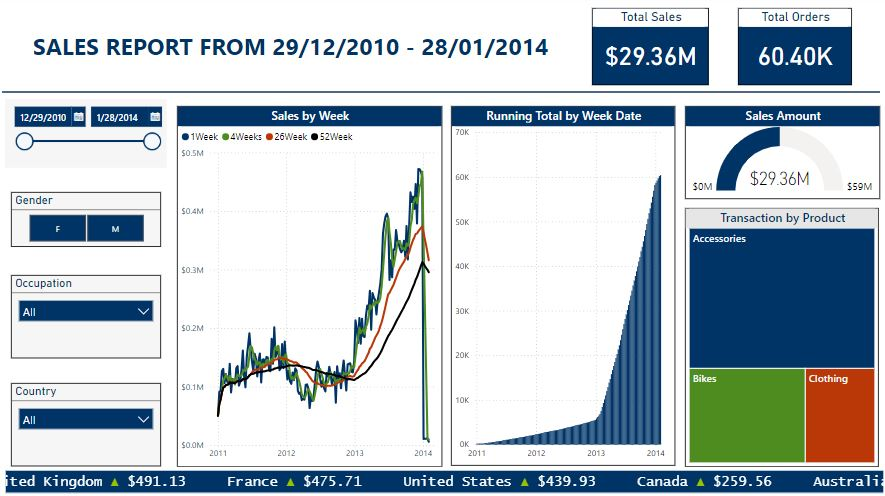

The page's visual inventory and layout, read from the dashboard file:
{"tool":"powerbi","page":{"name":"Page 1","canvas":[1280,720],"ordinal":0},"visuals":[{"type":"card","title":"Total Sales","fields":{"Values":["Sum(FactInternetSales.SalesAmount)"]},"box":[855.4,17.3,168.5,110.9],"z":0},{"type":"card","fields":{"Values":["MeasureTable.DynamicTitle"]},"box":[0,17.3,842.4,110.9],"z":1000},{"type":"slicer","title":"Gender","fields":{"Values":["DimCustomer.Gender"]},"box":[18.7,282.2,216,79.2],"z":2000},{"type":"lineChart","title":"Sales by Week","fields":{"Y":["Sum(FactInternetSales.SalesAmount)","MeasureTable.4WeekAverage","MeasureTable.26WeekAverage","MeasureTable.52WeekAverage"],"Category":["FactInternetSales.WeekDate"]},"box":[257.3,158.4,381.6,519.8],"z":3000},{"type":"clusteredColumnChart","fields":{"Y":["MeasureTable.RunningTotal"],"Category":["FactInternetSales.WeekDate"]},"box":[652.8,158.4,322.6,518.4],"z":4000},{"type":"gauge","title":"Sales Amount","fields":{"Y":["Sum(FactInternetSales.SalesAmount)"]},"box":[989.3,158.4,280.8,133.9],"z":5000},{"type":"slicer","title":"Occupation","fields":{"Values":["DimCustomer.EnglishOccupation"]},"box":[18.7,401.8,216,119.5],"z":6000},{"type":"slicer","title":"Country","fields":{"Values":["DimGeography.CountryRegionCode"]},"box":[18.7,557.3,216,119.5],"z":7000},{"type":"slicer","title":"Country","fields":{"Values":["FactInternetSales.OrderDate"]},"box":[10.1,148.3,233.3,99.4],"z":8000},{"type":"card","title":"Total Orders","fields":{"Values":["CountNonNull(FactInternetSales.SalesAmount)"]},"box":[1065.6,17.3,164.2,110.9],"z":9000},{"type":"shape","box":[5.8,125.3,1264.3,25.9],"z":10000},{"type":"treemap","title":"Transaction by Product","fields":{"Group":["DimProductCategory.EnglishProductCategoryName"],"Values":["CountNonNull(FactInternetSales.OrderDate)"]},"box":[989.3,305.3,279.4,373],"z":11000},{"type":"ScrollingTextVisual1448795304508","fields":{"Category":["DimGeography.EnglishCountryRegionName"],"Measure Deviation":["MeasureTable.AverageAmount"]},"box":[5.8,678.2,1274.4,41.8],"z":12000}]}

Visuals, with their boxes in screenshot pixels (x1, y1, x2, y2), scaled from the page's 1280x720 canvas onto the 885x496 screenshot:
"Total Sales" card: crop(591, 12, 708, 88)
card - MeasureTable.DynamicTitle: crop(0, 12, 582, 88)
"Gender" slicer: crop(13, 194, 162, 249)
"Sales by Week" lineChart: crop(178, 109, 442, 467)
clusteredColumnChart - MeasureTable.RunningTotal x FactInternetSales.WeekDate: crop(451, 109, 674, 466)
"Sales Amount" gauge: crop(684, 109, 878, 201)
"Occupation" slicer: crop(13, 277, 162, 359)
"Country" slicer: crop(13, 384, 162, 466)
"Country" slicer: crop(7, 102, 168, 171)
"Total Orders" card: crop(737, 12, 850, 88)
shape: crop(4, 86, 878, 104)
"Transaction by Product" treemap: crop(684, 210, 877, 467)
ScrollingTextVisual1448795304508 - DimGeography.EnglishCountryRegionName x MeasureTable.AverageAmount: crop(4, 467, 884, 495)
